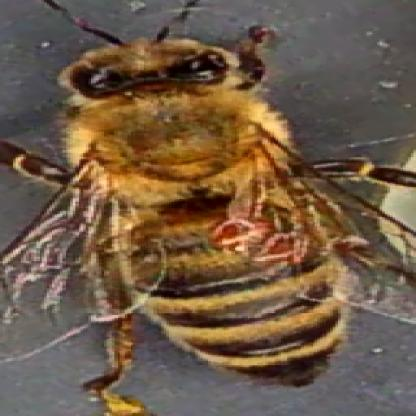bee: (66, 35, 361, 398)
vaoora: (252, 221, 306, 259), (212, 222, 251, 246)
